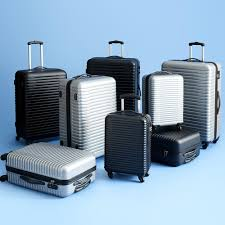suitcase: (160, 42, 222, 148), (12, 39, 70, 144), (1, 141, 98, 197), (56, 73, 117, 158), (103, 93, 153, 182), (83, 40, 142, 112), (140, 70, 185, 128), (150, 126, 203, 167)
